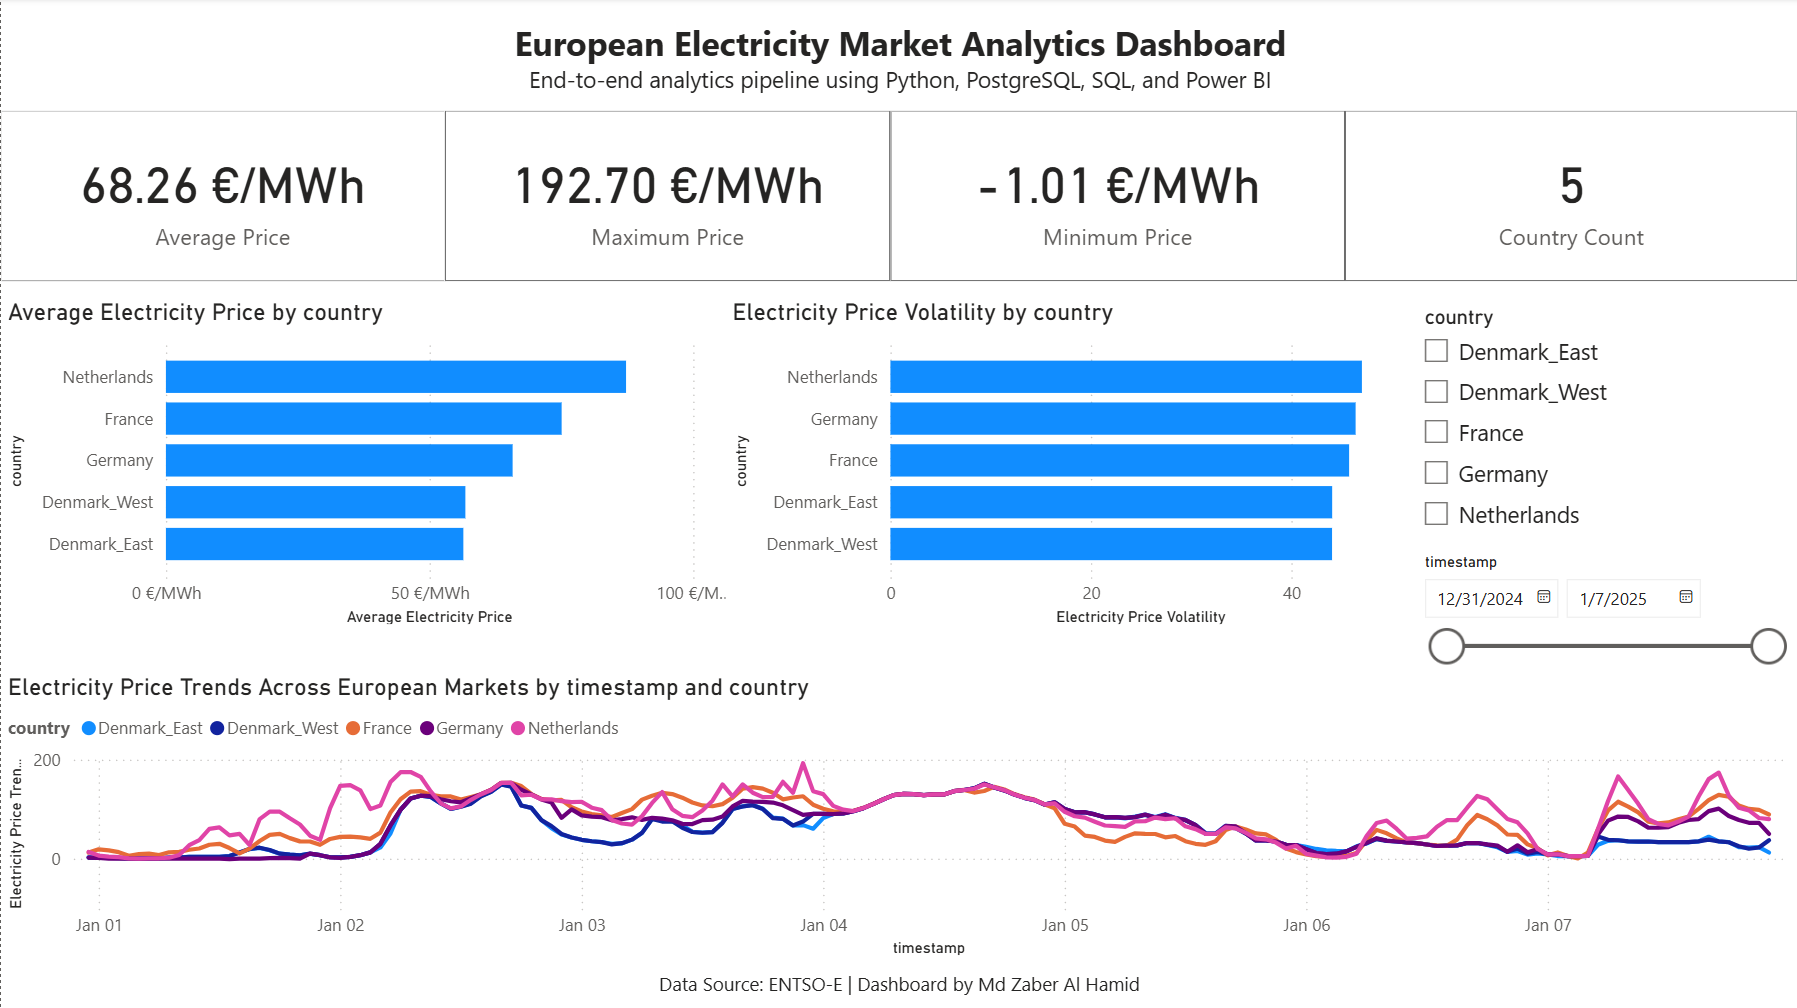

What the dashboard file says about the page in this screenshot:
{"tool":"powerbi","page":{"name":"European Energy Market Overview","canvas":[1280,720],"ordinal":0},"visuals":[{"type":"card","fields":{"Values":["public energy_prices.Average Price"]},"box":[0,80,315.9,121.7],"z":0},{"type":"card","fields":{"Values":["public energy_prices.Maximum Price"]},"box":[315.9,80,317,121.7],"z":1000},{"type":"card","fields":{"Values":["public energy_prices.Minimum Price"]},"box":[632.9,80,323.4,121.7],"z":2000},{"type":"card","fields":{"Values":["public energy_prices.Country Count"]},"box":[956.2,80,322.3,121.7],"z":3000},{"type":"clusteredBarChart","fields":{"Category":["public energy_prices.country"],"Y":["public energy_prices.Average Price"]},"box":[0,213.4,526.1,236.9],"z":4000},{"type":"slicer","fields":{"Values":["public energy_prices.country"]},"box":[1000,213.4,278.5,176.1],"z":5000},{"type":"lineChart","fields":{"Y":["Avg(Energy Prices.price_eur_mwh)"],"Series":["Energy Prices.country"],"Category":["Energy Prices.timestamp"]},"box":[0,480.2,1279.6,206],"z":6000},{"type":"clusteredBarChart","fields":{"Category":["Energy Prices.country"],"Y":["Energy Prices.Price Volatility"]},"box":[515.5,213.4,485.6,236.9],"z":7000},{"type":"slicer","fields":{"Values":["Energy Prices.timestamp"]},"box":[1000,389.5,278.5,100.3],"z":8000},{"type":"textbox","box":[0,9.6,1279.6,70.4],"z":9000},{"type":"textbox","box":[0,686.2,1278.5,34.2],"z":10000}]}

Visuals, with their boxes in screenshot pixels (x1, y1, x2, y2), scaled from the page's 1280x720 canvas onto the 1797x1008 screenshot:
card - public energy_prices.Average Price: 0, 112, 443, 282
card - public energy_prices.Maximum Price: 443, 112, 889, 282
card - public energy_prices.Minimum Price: 889, 112, 1343, 282
card - public energy_prices.Country Count: 1342, 112, 1795, 282
clusteredBarChart - public energy_prices.country x public energy_prices.Average Price: 0, 299, 739, 630
slicer - public energy_prices.country: 1404, 299, 1795, 545
lineChart - Avg(Energy Prices.price_eur_mwh) x Energy Prices.country: 0, 672, 1796, 961
clusteredBarChart - Energy Prices.country x Energy Prices.Price Volatility: 724, 299, 1405, 630
slicer - Energy Prices.timestamp: 1404, 545, 1795, 686
textbox: 0, 13, 1796, 112
textbox: 0, 961, 1795, 1007
